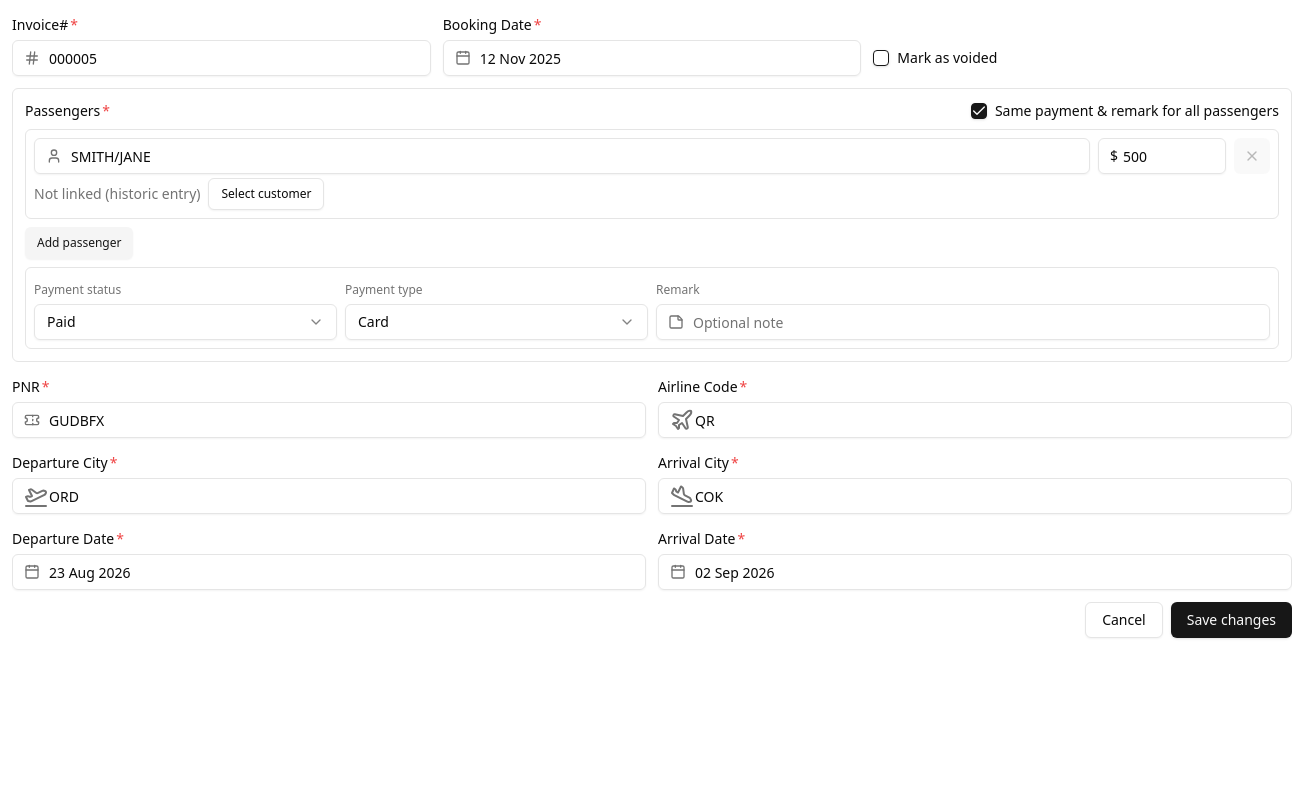
BookingForm customer-link gate › still blocks a passenger newly added during an edit
Click the button "Add passenger" at [79, 243], box [25, 227, 134, 259]
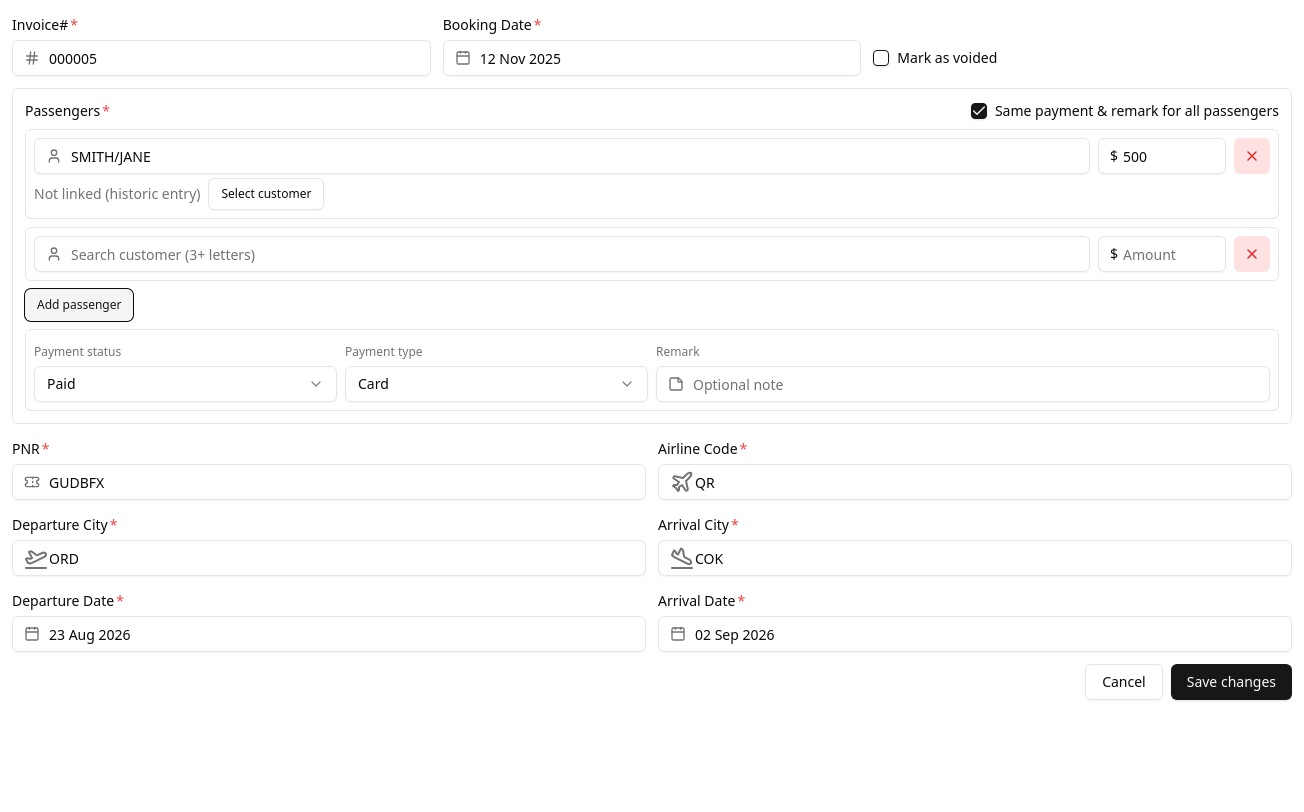
Type "250" into the number field named "Amount 2" at [1162, 254], box [1098, 236, 1226, 272]
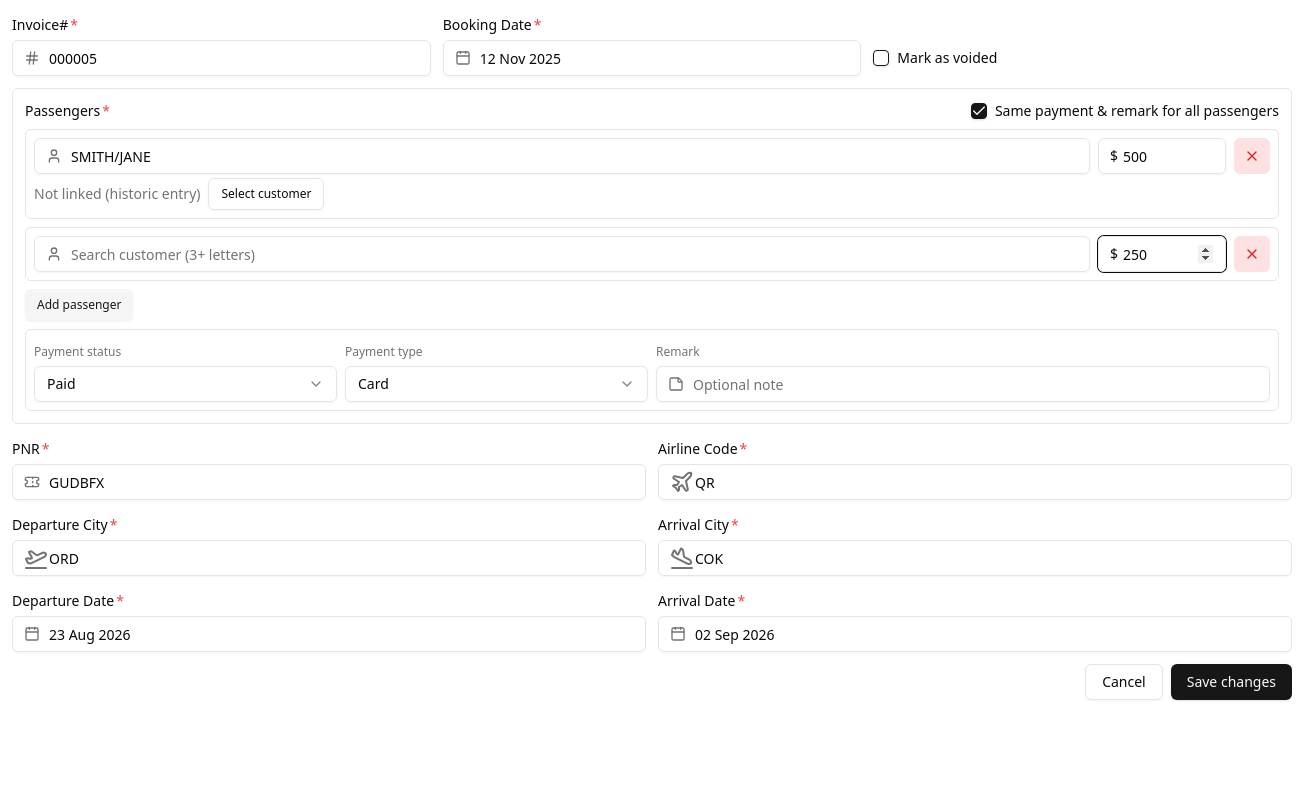
Click the button "Save changes" at [1231, 682], box [1171, 664, 1292, 700]
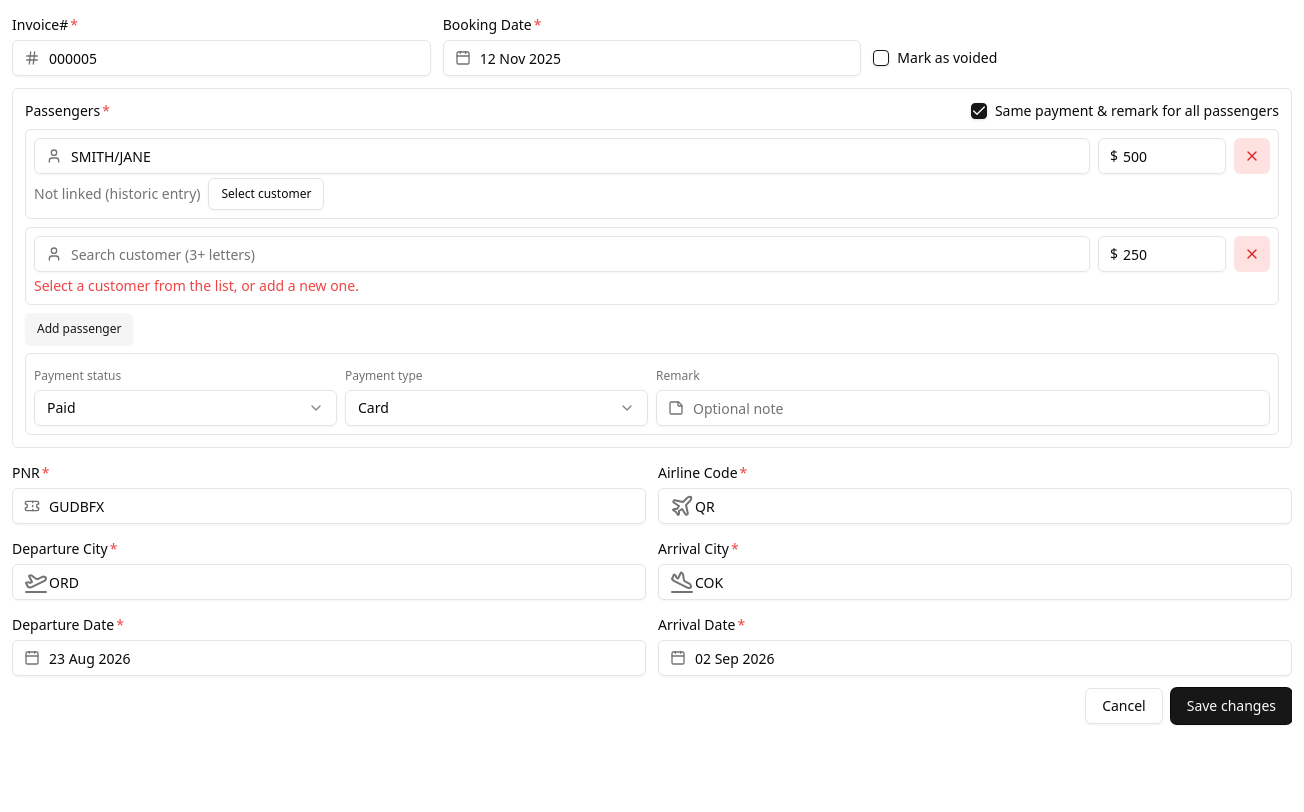
Expected: the message shows "Select a customer", [34, 276, 359, 295]
